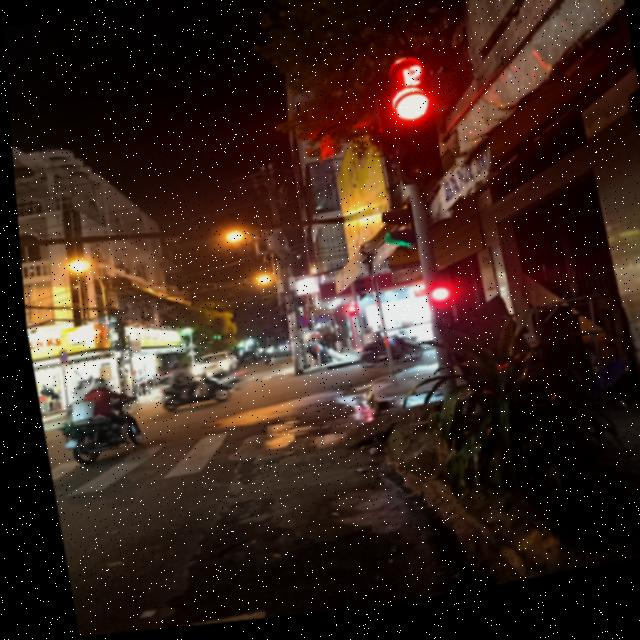Red: (379, 89, 442, 199), (416, 285, 454, 345)
